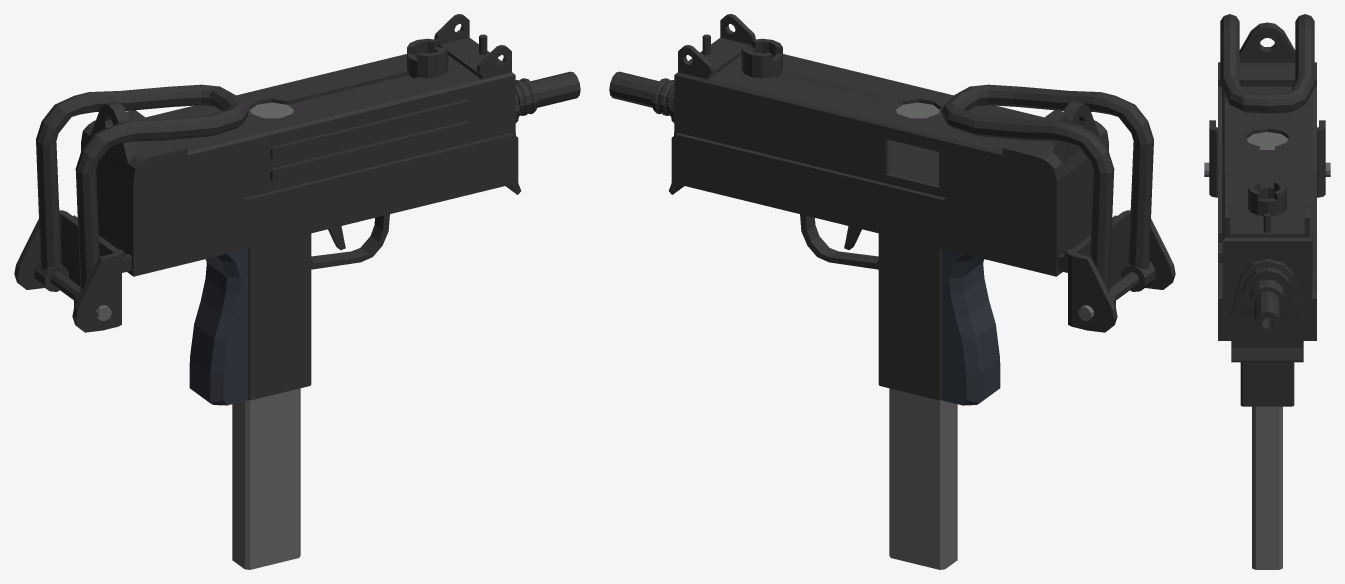
Rendered from SM_Smg_01.glb.
3 views of the same model, side by side, from view 1: azimuth 30°, elevation 25°; view 2: azimuth 150°, elevation 25°; view 3: azimuth 270°, elevation 25° (orthographic). The views are drawn at different scales.
Visible parts, largest first — view 1: SM_Smg_01; view 2: SM_Smg_01; view 3: SM_Smg_01.
Boxes of the visible parts, box(x1,y1,x2,y2) form: SM_Smg_01: box(14, 14, 580, 569); SM_Smg_01: box(609, 14, 1175, 569); SM_Smg_01: box(1204, 14, 1330, 569).
Size of the model in its own units: 0.4433 by 0.3933 by 0.0975.
1 material, 1 textured.
